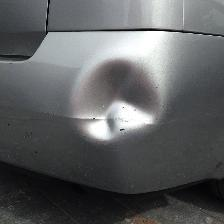bumper_dent: (60, 49, 173, 148)
